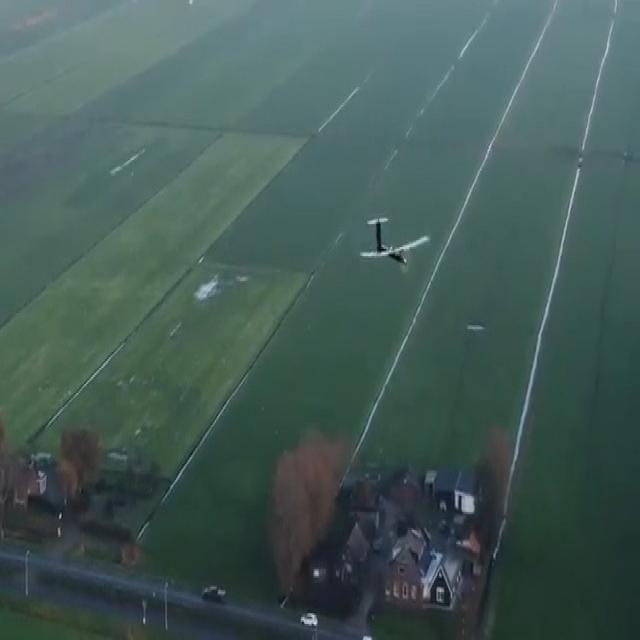drones: (356, 209, 430, 285)
